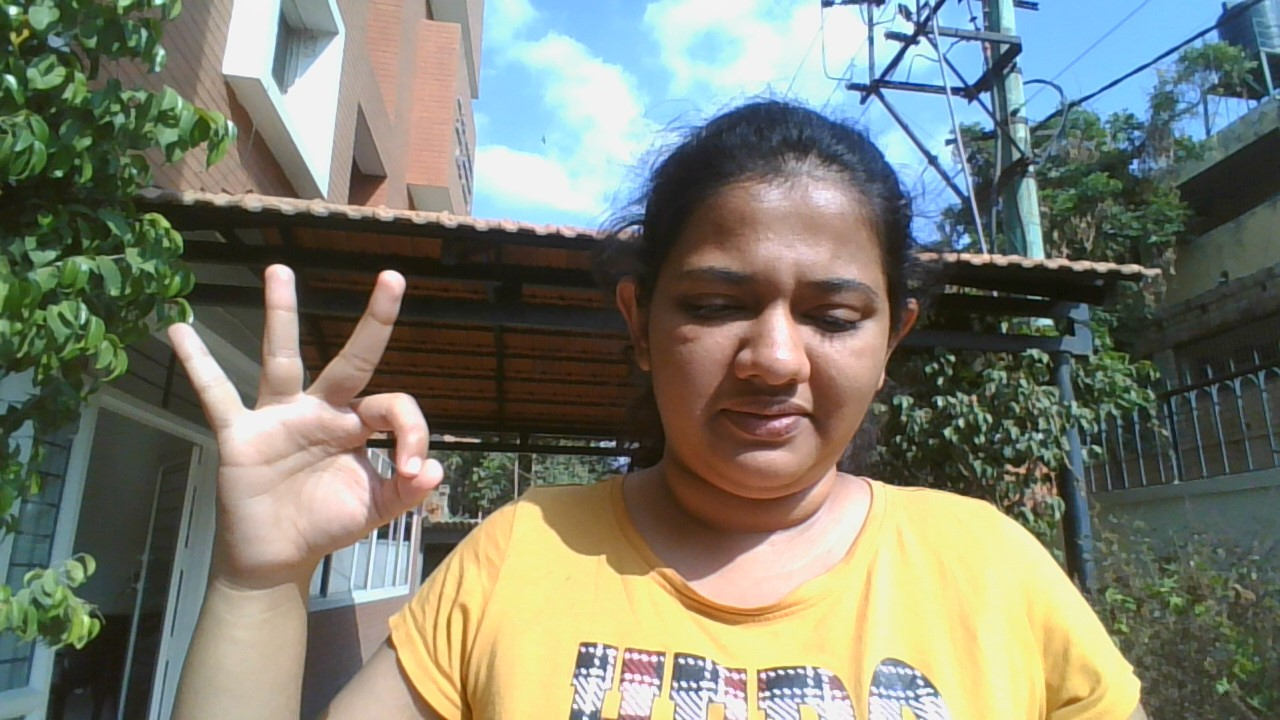f: (158, 253, 447, 602)
